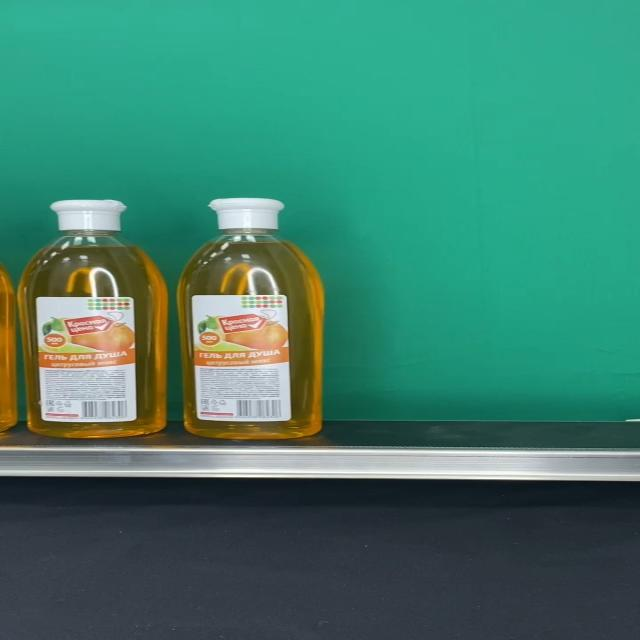Bottle: (19, 198, 168, 438), (178, 198, 324, 440)
Cap: (208, 198, 285, 230), (50, 199, 127, 231)
